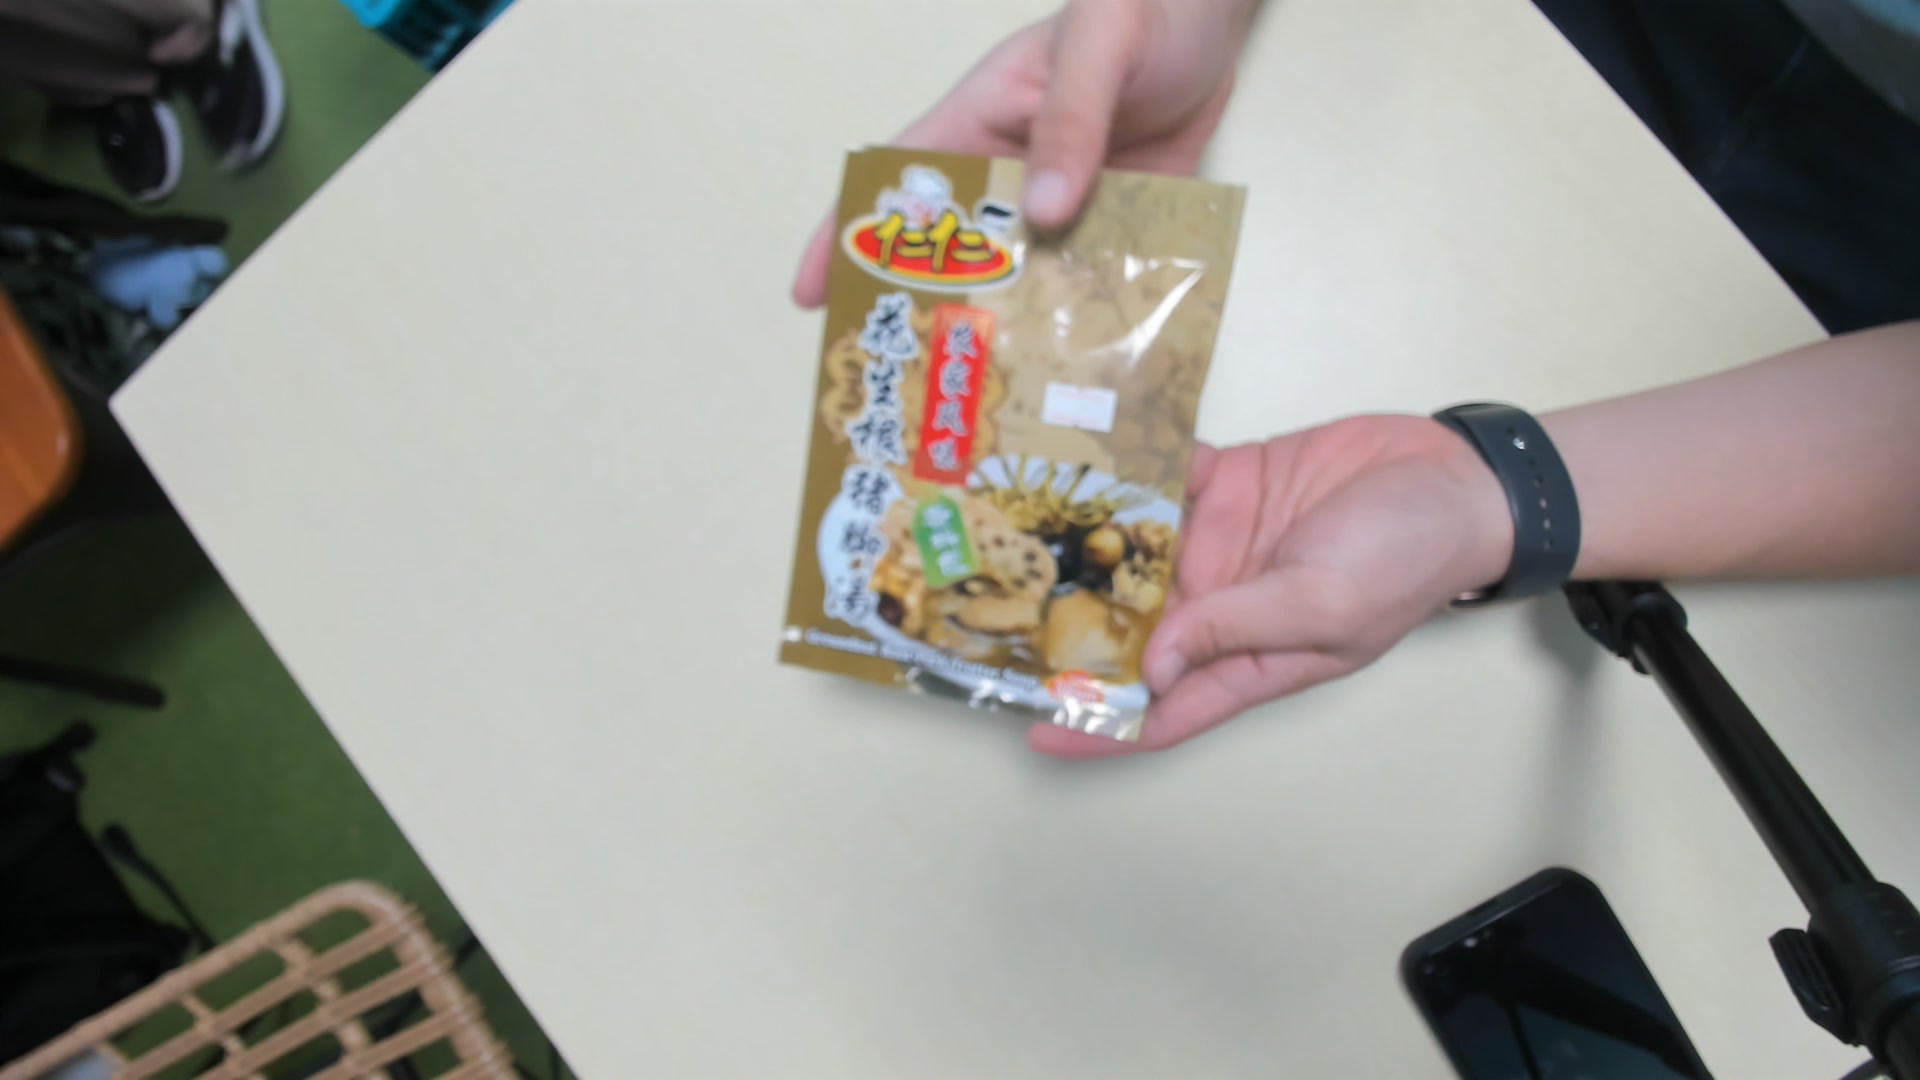OtherSauceDressing_0-99g_NonHalal_NonHealthy: (773, 145, 1246, 738)
